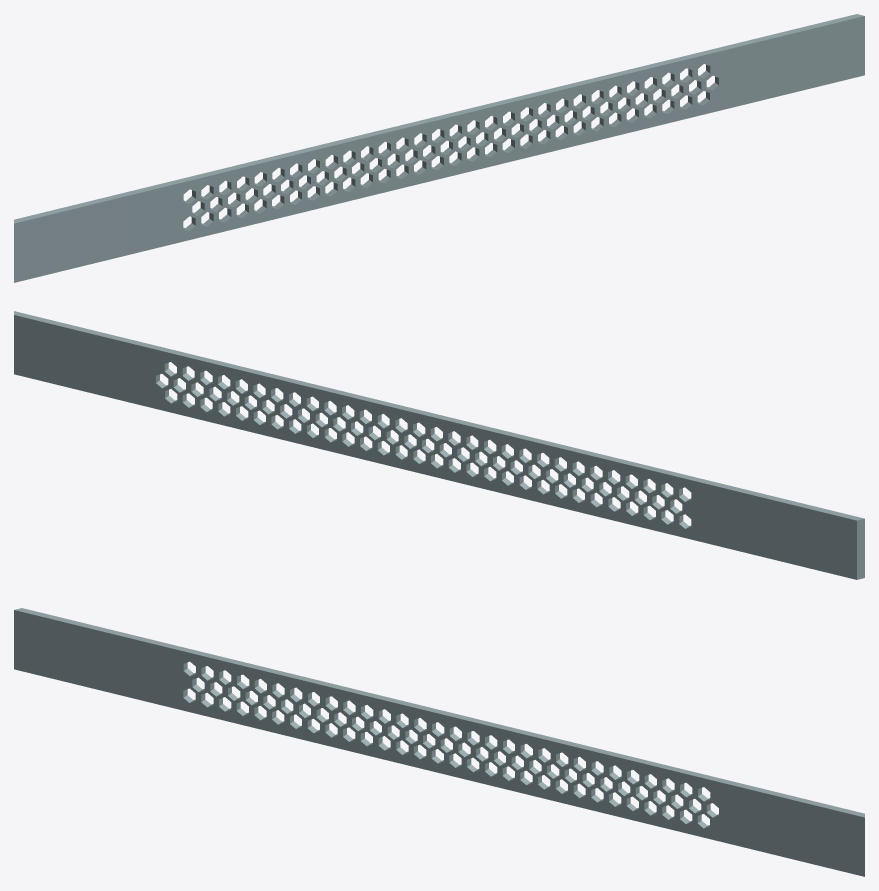
The model's file is lvl1_wall1.glb.
3 views of the same model, one above another, from view 1: azimuth 30°, elevation 25°; view 2: azimuth 150°, elevation 25°; view 3: azimuth 330°, elevation 25° (orthographic).
Parts seen in each view (by area): view 1: lvl1_wall; view 2: lvl1_wall; view 3: lvl1_wall.
Boxes of the visible parts, x1,y1,x2,y2 form: lvl1_wall: (14, 14, 864, 282); lvl1_wall: (14, 311, 864, 579); lvl1_wall: (14, 608, 864, 876).
Bounding box in the file's own units: 60 × 4 × 0.4944.
1 material, 1 textured.
